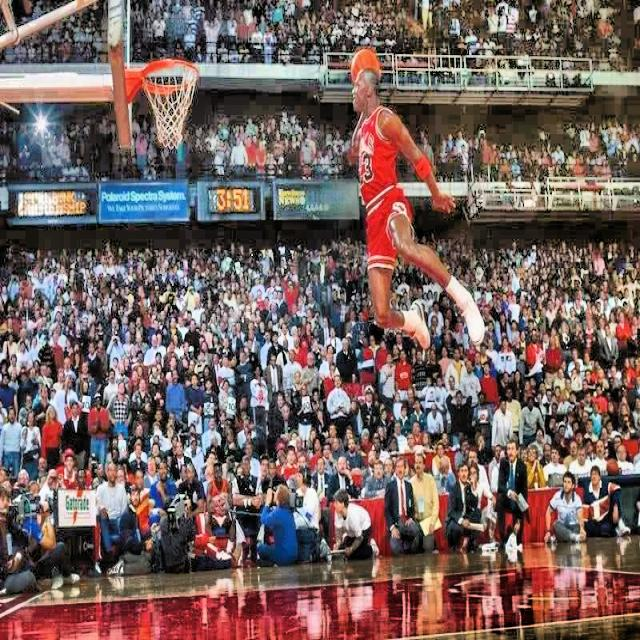rim: (141, 58, 198, 150)
